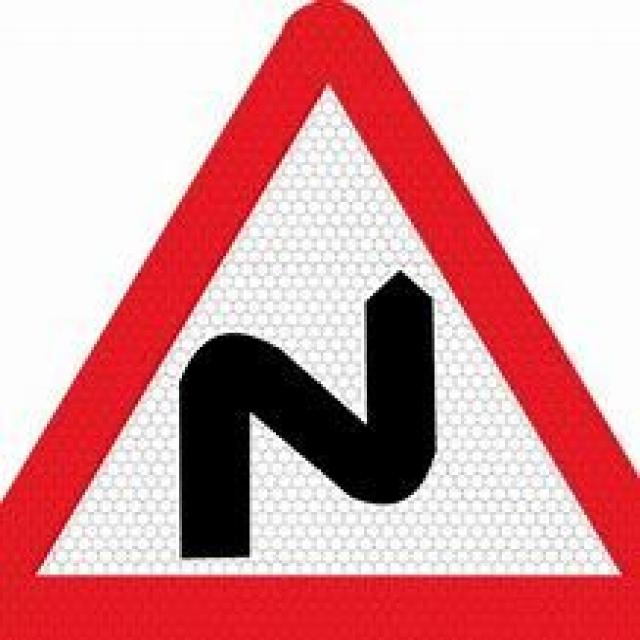RIGHT_REVERSE_BEND: (0, 0, 637, 637)
